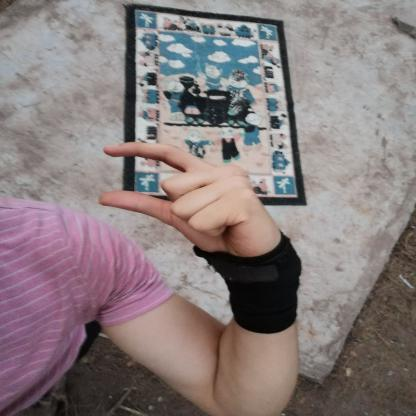DELL: (86, 130, 290, 267)
